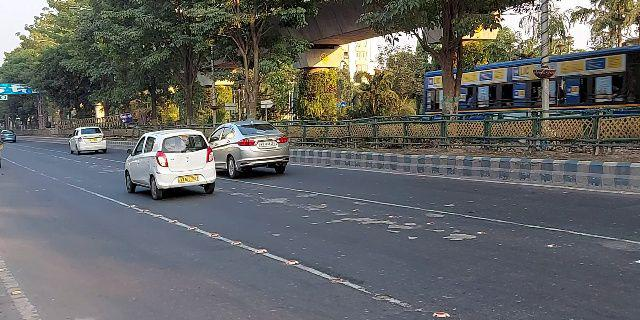Car: (122, 130, 217, 201), (206, 121, 295, 180), (66, 124, 111, 155)
